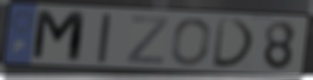8: (262, 20, 297, 72)
D: (211, 16, 258, 69)
I: (96, 12, 114, 65)
M: (29, 8, 88, 65)
O: (169, 16, 213, 67)
Z: (125, 15, 171, 66)
